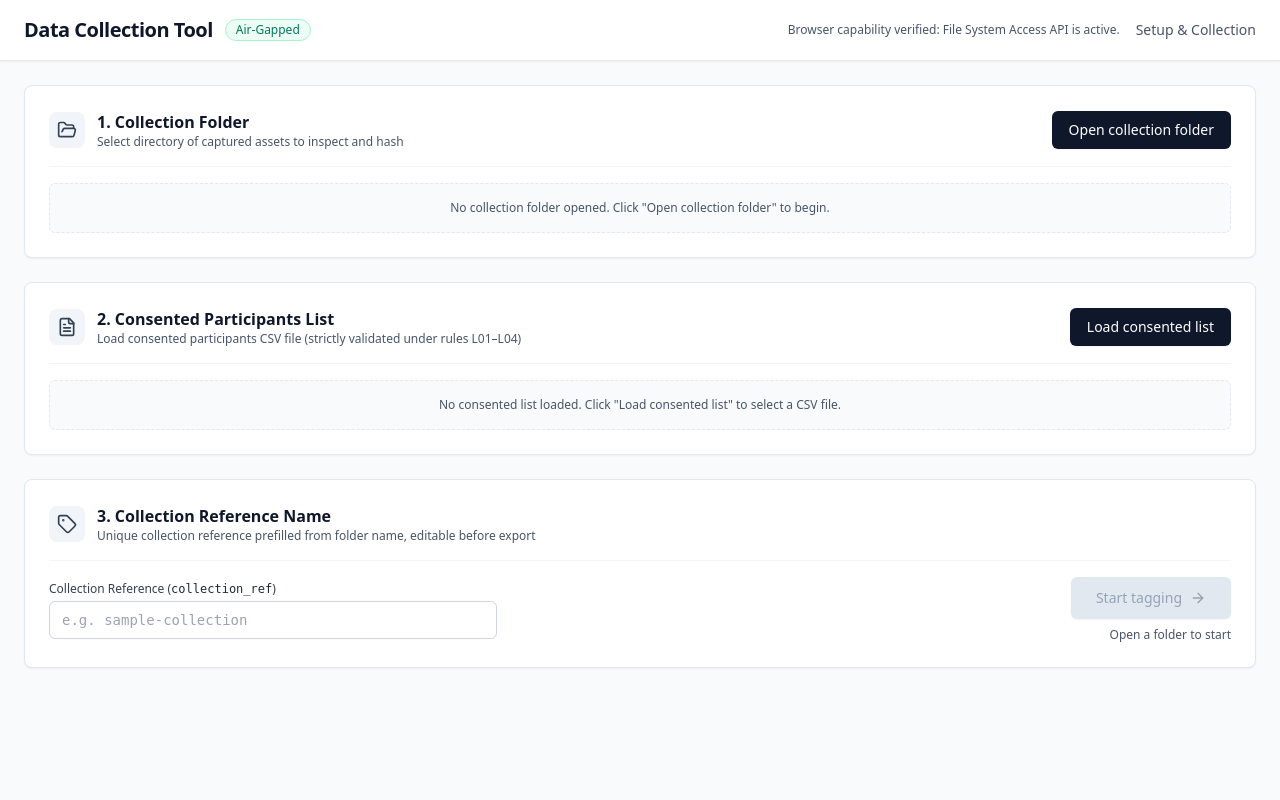
it: Adversarial Stress Harness: Milestone 4 Start Screen & State Pipeline › Challenge 4: Large asset collections (>50 assets) › 4.2: Large collection (>50 assets) preserves RAM privacy without writing to web storage
Step 1. Click the button with test id "open-folder-button" → (1141, 130), box left=1052, top=111, right=1231, bottom=149
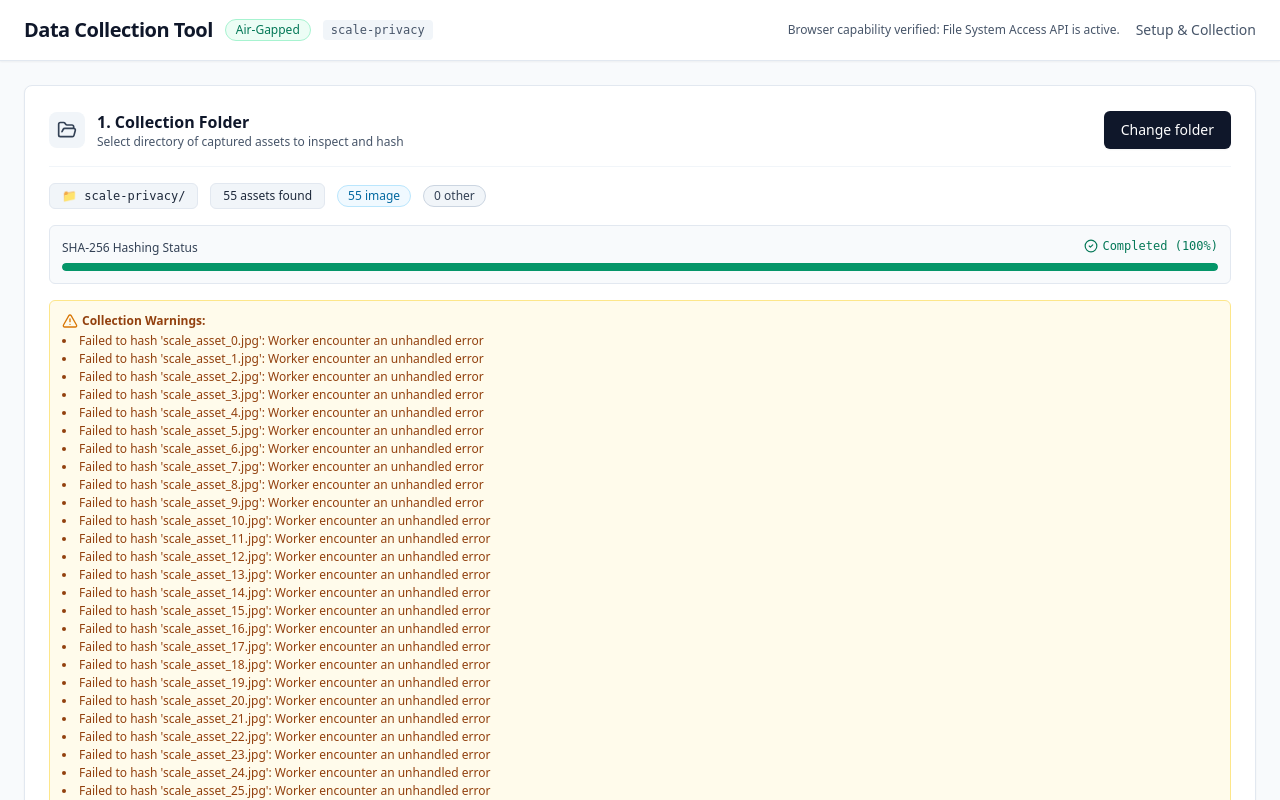
Check: the text with test id "asset-count-badge" reads "55 assets found", box left=210, top=183, right=325, bottom=209
Check: the element with test id "hashing-progress-bar" shows "100%", box left=1102, top=239, right=1218, bottom=253
